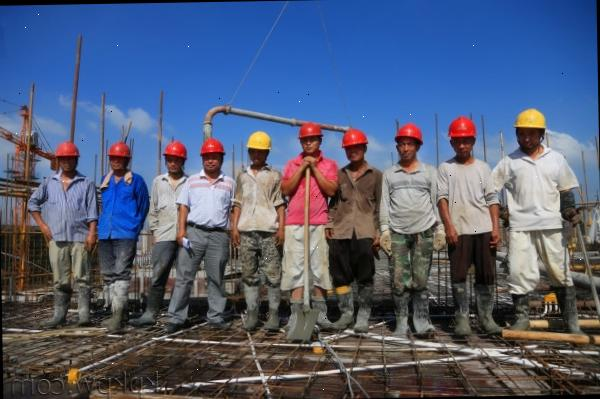helmet: (509, 107, 548, 131), (444, 115, 478, 139), (392, 122, 426, 144), (337, 126, 370, 148), (244, 129, 276, 151), (293, 121, 326, 141), (50, 141, 82, 160), (104, 140, 132, 160), (198, 137, 228, 155), (160, 139, 188, 158)
no_wear: (504, 157, 560, 236), (438, 162, 493, 239), (381, 166, 438, 238), (40, 176, 98, 244), (286, 153, 340, 226), (334, 166, 382, 240), (179, 174, 232, 229), (238, 168, 280, 233), (151, 176, 189, 243)
wear: (101, 175, 145, 244)
